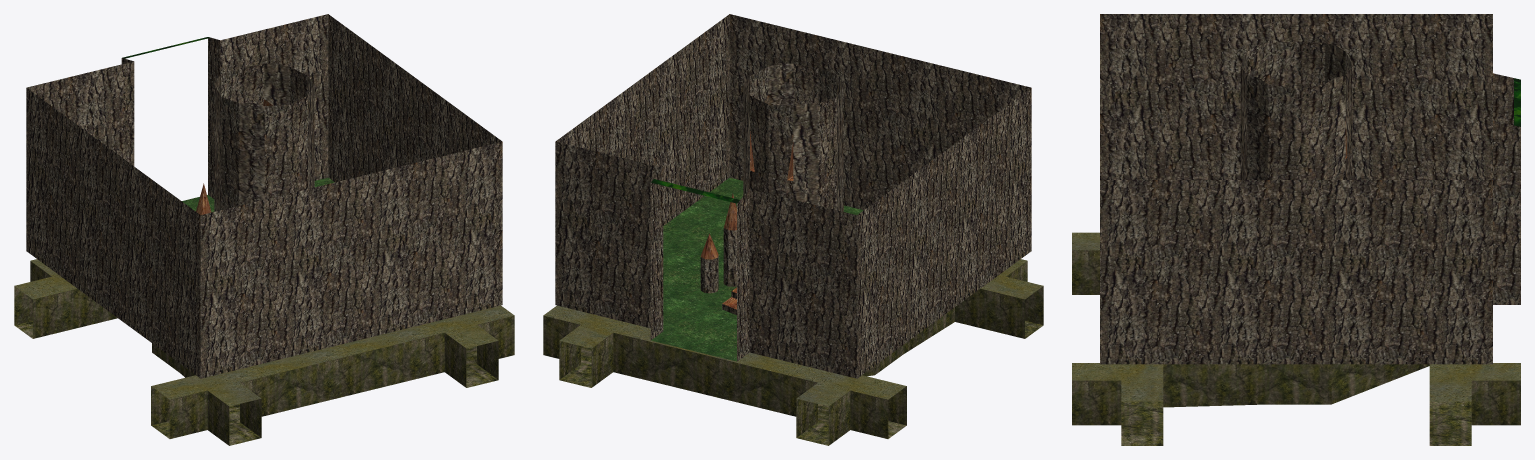
File: woods1goal.gltf
The picture shows the model from 3 angles, left to right: view 1: azimuth 30°, elevation 25°; view 2: azimuth 150°, elevation 25°; view 3: azimuth 270°, elevation 25°; orthographic projection. The views are drawn at different scales.
Parts seen in each view (by area): view 1: woods1goal; view 2: woods1goal; view 3: woods1goal.
Boxes of the visible parts, x1=… form: woods1goal: x1=14, y1=14, x2=514, y2=445; woods1goal: x1=543, y1=14, x2=1043, y2=445; woods1goal: x1=1072, y1=14, x2=1520, y2=445.
Bounding box in the file's own units: 32 × 25.31 × 32.
Materials: 12 (12 with a texture image).
